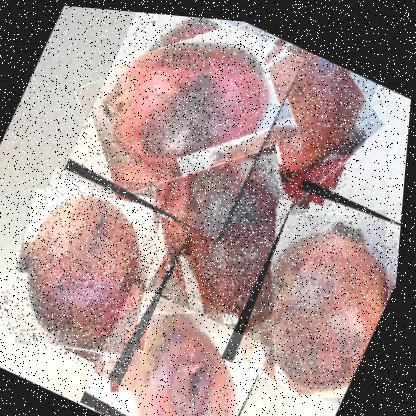pomegranate_rotten: (60, 5, 306, 242), (119, 115, 342, 354), (221, 166, 405, 410), (0, 160, 196, 386), (195, 18, 392, 216), (82, 276, 280, 415)
